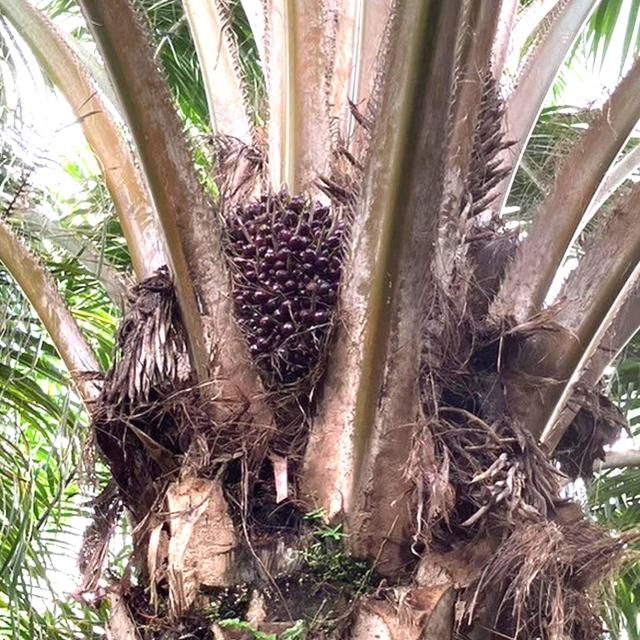ripe: (215, 184, 362, 414)
